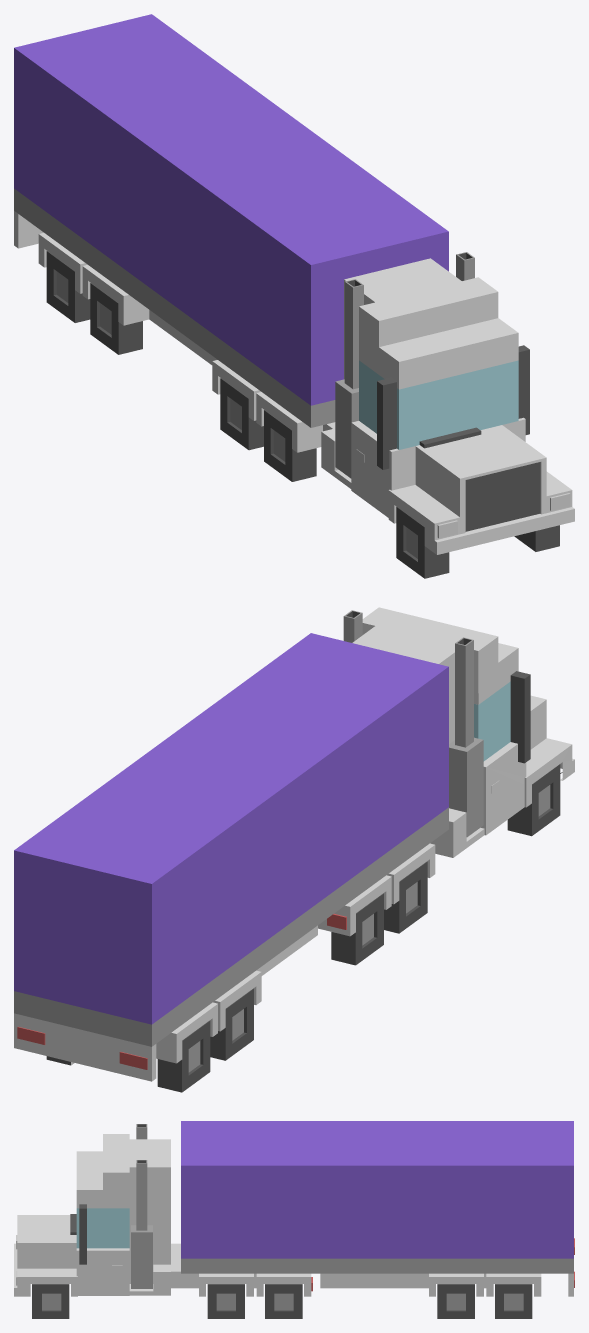
The model's file is kamion.fbx.
3 renders of one model, top to bottom at view 1: azimuth 30°, elevation 25°; view 2: azimuth 150°, elevation 25°; view 3: azimuth 270°, elevation 25°, orthographic. The views are drawn at different scales.
Parts seen in each view (by area): view 1: Camera; view 2: Camera; view 3: Camera.
Part boxes in pixels (x1,y1,x2,y2): Camera: [14, 14, 574, 578]; Camera: [14, 607, 574, 1092]; Camera: [14, 1121, 574, 1318].
Size of the model in its own units: 120 by 181 by 601.
